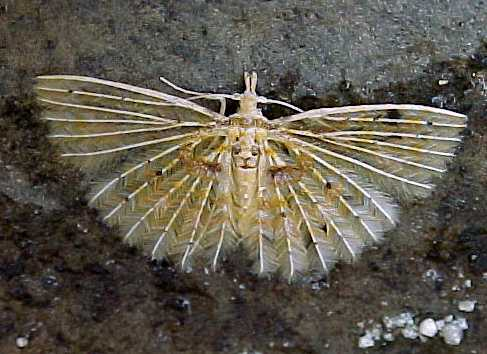Alucitidae: (25, 59, 469, 291)
moth: (23, 57, 467, 289)
